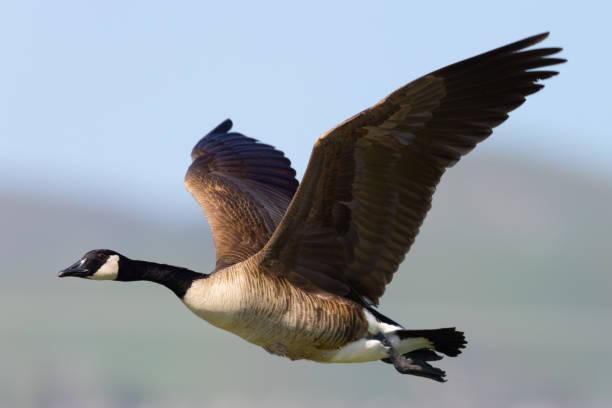Canadian-Goose: (55, 32, 567, 389)
